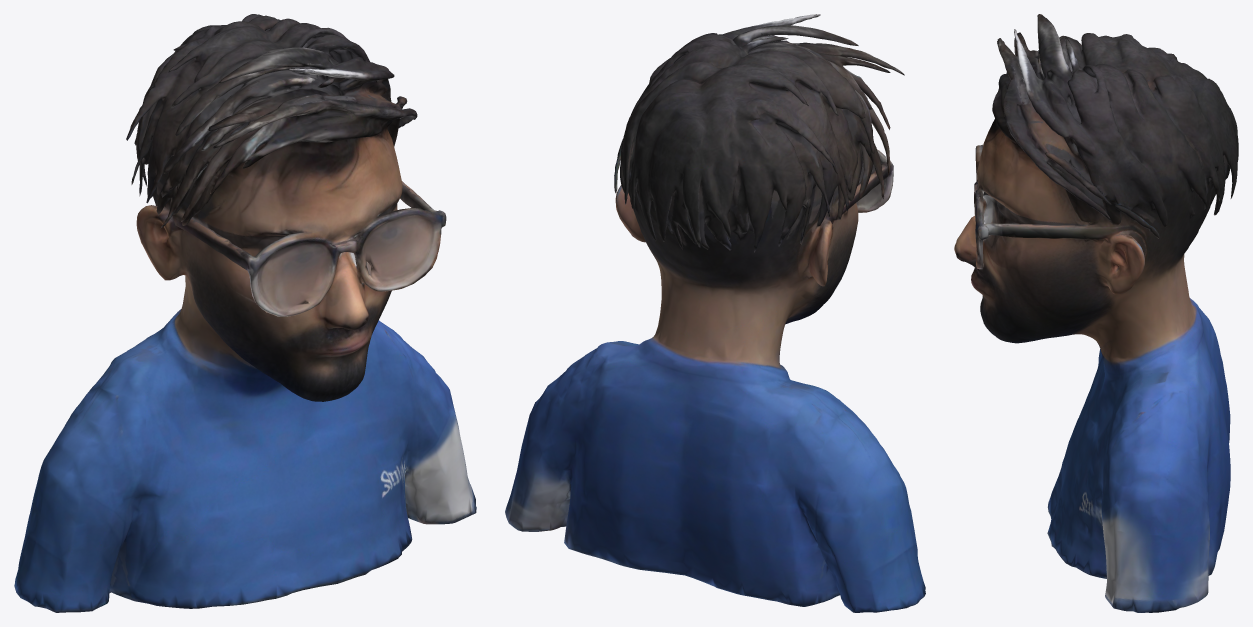
The model's file is vig3d.glb.
3 renders of one model, left to right at view 1: azimuth 30°, elevation 25°; view 2: azimuth 150°, elevation 25°; view 3: azimuth 270°, elevation 25°, orthographic. The views are drawn at different scales.
Bounding box in the file's own units: 1.71 × 2 × 1.08.
Materials: 1 (1 with a texture image).
